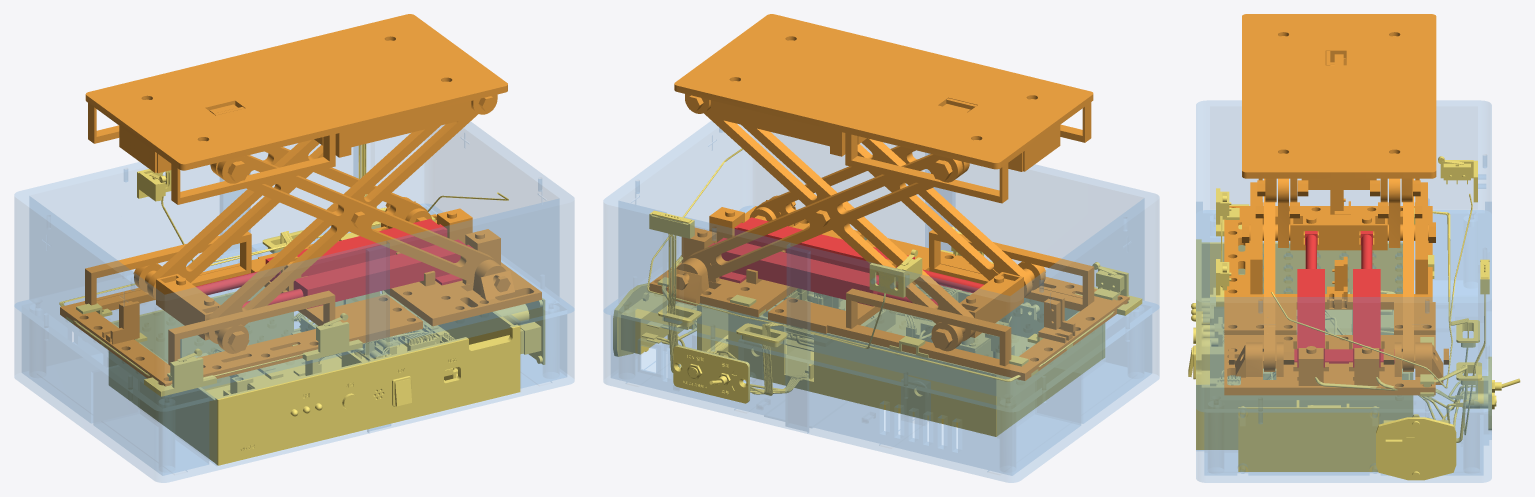
The picture shows the model from 3 angles, left to right: view 1: azimuth 30°, elevation 25°; view 2: azimuth 150°, elevation 25°; view 3: azimuth 270°, elevation 25°; orthographic projection.
Parts seen in each view (by area): view 1: c1_box, c0_drawer, L_fixed, c0_box, L_1-L6, L_1-L7, L_1-L4_B_F, c1_fit, L_1-L3_A_F, L_1-L4_B_R, L_1-L5, c0_fix (+2 smaller); view 2: c1_box, c0_box, L_fixed, c0_drawer, L_1-L6, L_1-L7, c1_fit, c0_fix, L_1-L4_B_R, L_1-L3_A_R, L_1-L4_B_F, L_1-L5 (+3 smaller); view 3: c1_box, L_fixed, c0_box, L_1-L7, c0_fix, L_1-L6, c0_drawer, c1_fit, L_1-L5, L_1-L3_A_F, L_1-L3_A_R, L_1-L4_B_R (+4 smaller).
Part boxes in pixels (x1,y1,x2,y2): c1_box: [14, 122, 574, 411]; c0_drawer: [108, 286, 520, 465]; L_fixed: [60, 197, 541, 386]; c0_box: [14, 204, 574, 482]; L_1-L6: [85, 53, 345, 204]; L_1-L7: [248, 14, 507, 156]; L_1-L4_B_F: [204, 109, 478, 343]; c1_fit: [59, 144, 508, 396]; L_1-L3_A_F: [210, 155, 497, 283]; L_1-L4_B_R: [147, 139, 323, 299]; L_1-L5: [156, 274, 220, 340]; c0_fix: [299, 293, 545, 364]; c1_box: [603, 121, 1159, 411]; c0_box: [603, 206, 1159, 482]; L_fixed: [649, 195, 1129, 380]; c0_drawer: [697, 237, 1105, 436]; L_1-L6: [835, 53, 1093, 203]; L_1-L7: [674, 14, 932, 155]; c1_fit: [647, 148, 1142, 381]; c0_fix: [613, 282, 792, 403]; L_1-L4_B_R: [704, 108, 975, 341]; L_1-L3_A_R: [684, 154, 969, 281]; L_1-L4_B_F: [857, 138, 1032, 297]; L_1-L5: [959, 272, 1023, 337]; c1_box: [1196, 100, 1491, 412]; L_fixed: [1224, 182, 1448, 395]; c0_box: [1196, 210, 1491, 482]; L_1-L7: [1242, 93, 1436, 202]; c0_fix: [1238, 356, 1520, 480]; L_1-L6: [1242, 14, 1436, 93]; c0_drawer: [1188, 239, 1413, 449]; c1_fit: [1216, 156, 1489, 396]; L_1-L5: [1290, 214, 1387, 250]; L_1-L3_A_F: [1264, 178, 1275, 371]; L_1-L3_A_R: [1403, 178, 1413, 371]; L_1-L4_B_R: [1389, 178, 1400, 247].
Bounding box in the file's own units: 0.3517 × 0.2292 × 0.2391.
